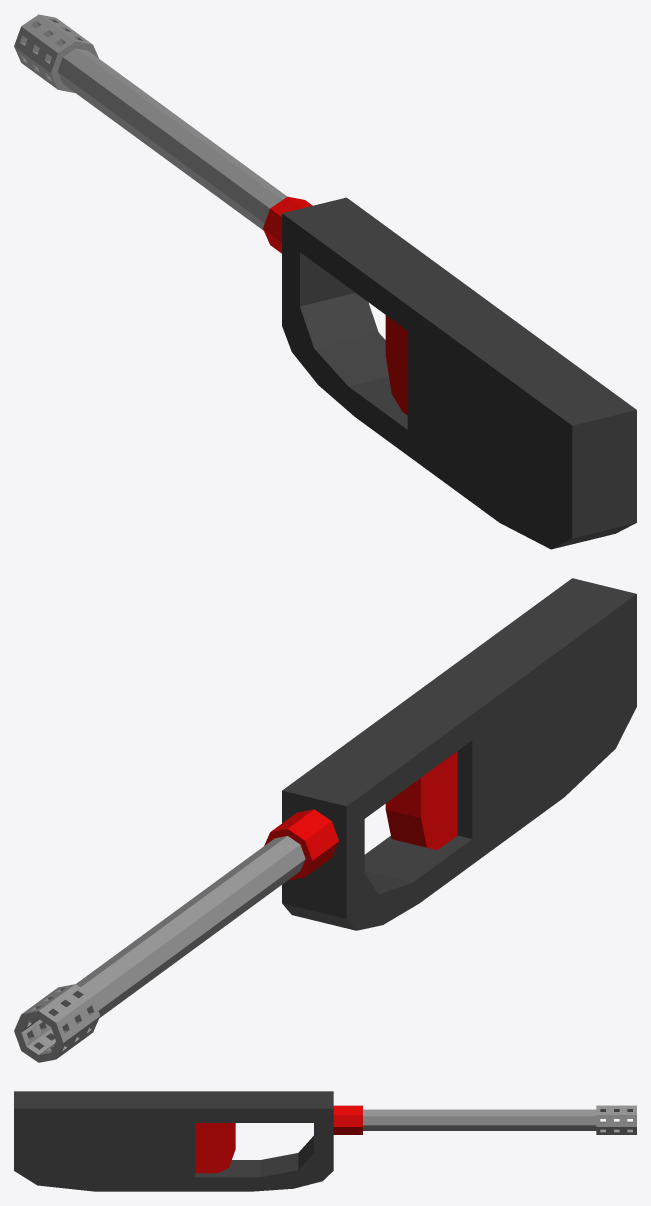
Rendered from gas_lighter.glb.
3 renders of one model, top to bottom at view 1: azimuth 30°, elevation 25°; view 2: azimuth 150°, elevation 25°; view 3: azimuth 270°, elevation 25°, orthographic. The views are drawn at different scales.
Visible parts, largest first — view 1: Gas Lighter, Trigger; view 2: Gas Lighter, Trigger; view 3: Gas Lighter, Trigger.
Boxes of the visible parts, box(x1,y1,x2,y2) form: Gas Lighter: box(14, 14, 636, 549); Trigger: box(385, 315, 407, 415); Gas Lighter: box(14, 578, 636, 1062); Trigger: box(385, 751, 457, 850); Gas Lighter: box(14, 1091, 636, 1191); Trigger: box(195, 1123, 235, 1173).
Bounding box in the file's own units: 0.0225 × 0.05 × 0.3412.
